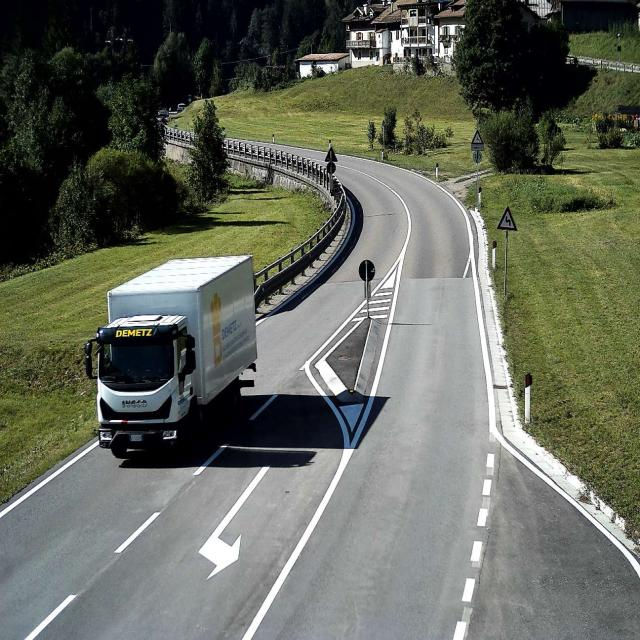truck: (84, 252, 258, 456)
